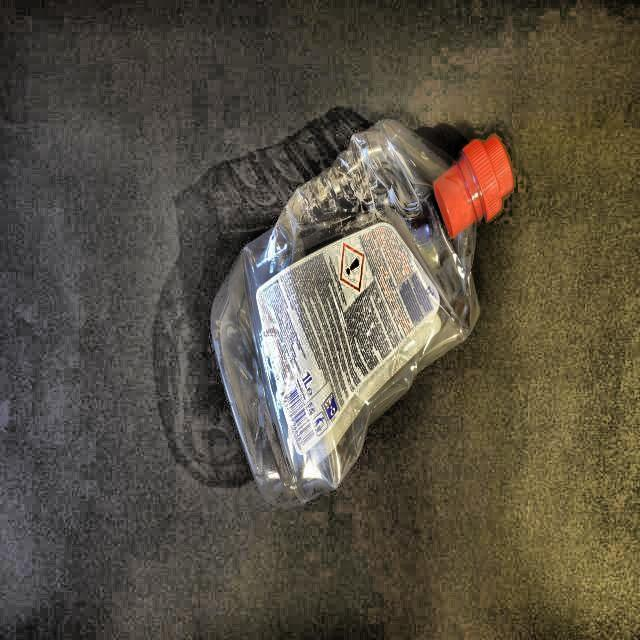plastic bottle: (213, 121, 514, 502)
